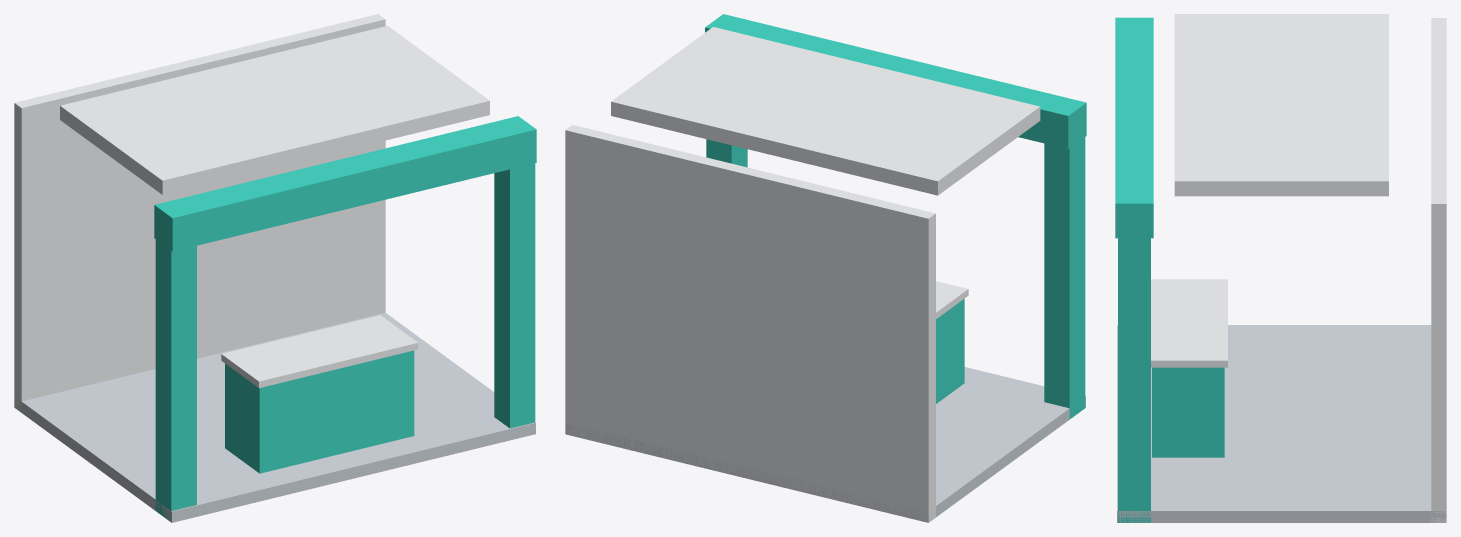
The picture shows the model from 3 angles, left to right: view 1: azimuth 30°, elevation 25°; view 2: azimuth 150°, elevation 25°; view 3: azimuth 270°, elevation 25°; orthographic projection. The views are drawn at different scales.
Parts seen in each view (by area): view 1: Exhibition Booth Concept; view 2: Exhibition Booth Concept; view 3: Exhibition Booth Concept.
Boxes of the visible parts, <box> form: Exhibition Booth Concept: <box>14,14,536,522</box>; Exhibition Booth Concept: <box>565,14,1086,522</box>; Exhibition Booth Concept: <box>1115,14,1446,522</box>.
Bounding box in the file's own units: 4 × 3.34 × 3.01.
